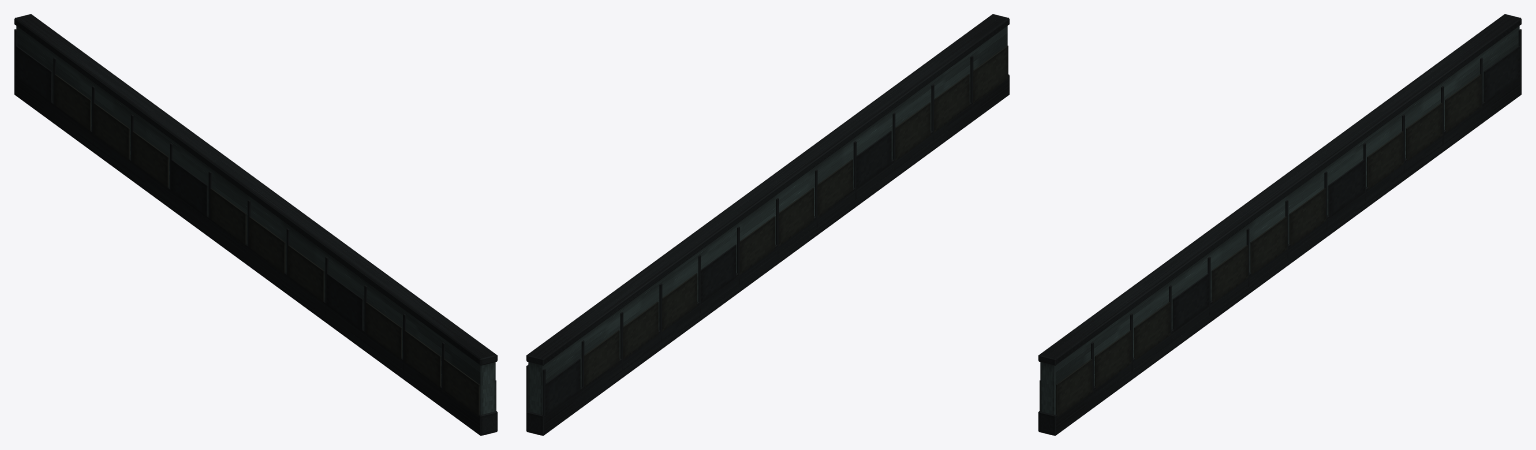
Rendered from THStage_WestBoundary.fbx.
3 renders of one model, left to right at view 1: azimuth 30°, elevation 25°; view 2: azimuth 150°, elevation 25°; view 3: azimuth 330°, elevation 25°, orthographic.
Visible parts, largest first — view 1: THStage_WestBoundary.008; view 2: THStage_WestBoundary.008; view 3: THStage_WestBoundary.008.
Boxes of the visible parts, x1=… form: THStage_WestBoundary.008: x1=14, y1=14, x2=497, y2=435; THStage_WestBoundary.008: x1=526, y1=14, x2=1009, y2=435; THStage_WestBoundary.008: x1=1038, y1=14, x2=1521, y2=435.
Size of the model in its own units: 0.18 by 0.75 by 8.2.
Materials: 1 (1 with a texture image).
